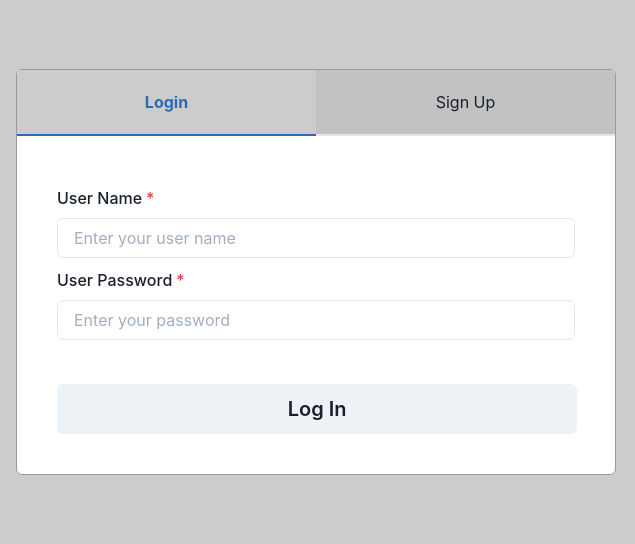
Test: Login UI Tests › Displays error for submitting sign up form with invalid password
This screenshot has width=635, height=544.
Click the tab "Sign Up" at (466, 103), box [316,70,615,136]
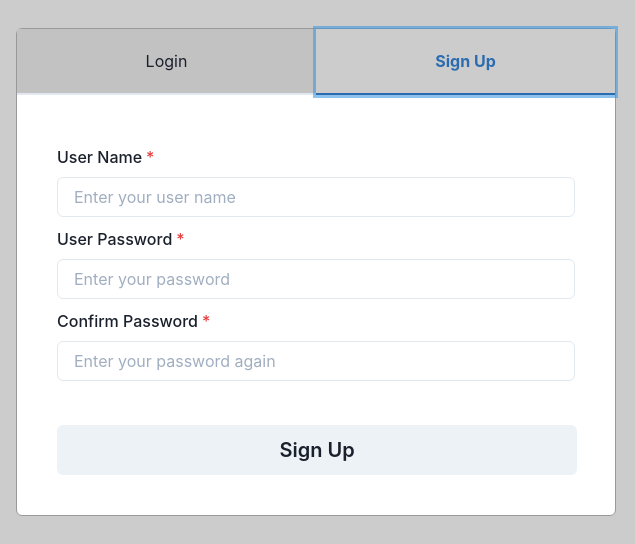
Now the password field with placeholder "Enter your password again" is shown, box [57,341,575,381]
Type "abcdef" into the field with placeholder "Enter your user name" at (316, 197), box [57,177,575,217]
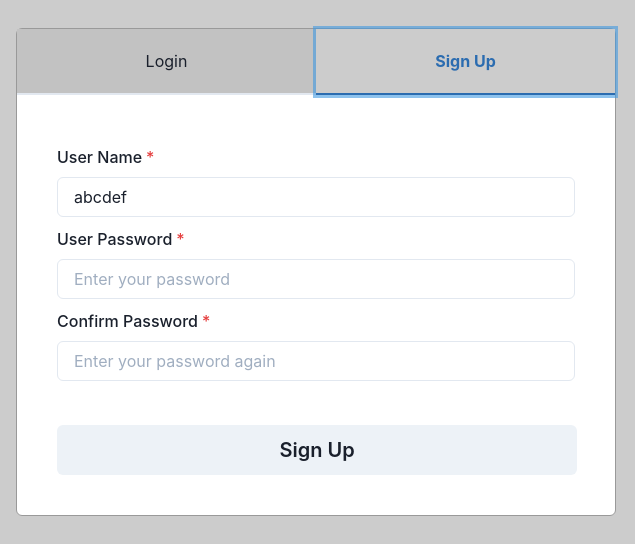
Type "1234567890" into the password field with placeholder "Enter your password" at (316, 279), box [57,259,575,299]
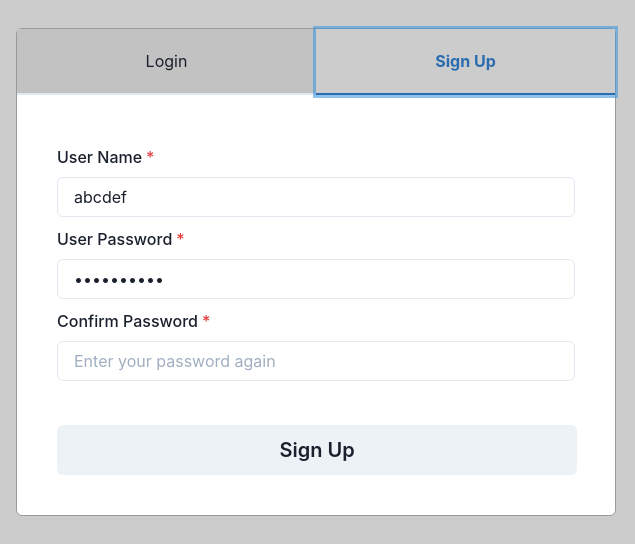
Type "123456789" into the password field with placeholder "Enter your password again" at (316, 361), box [57,341,575,381]
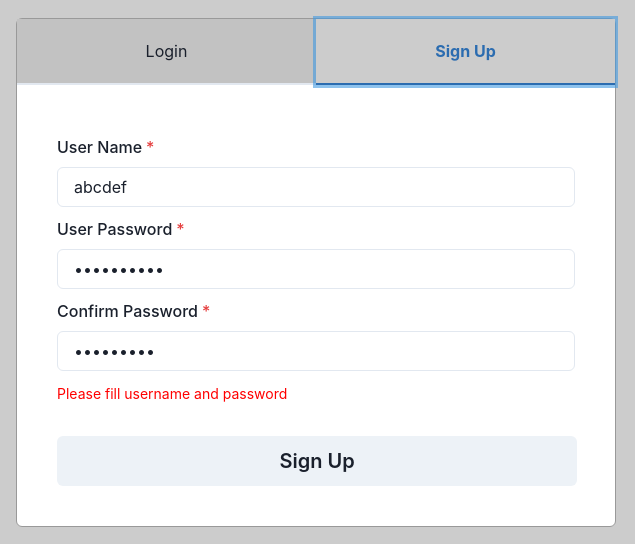
Click the button with test id "submitButton" at (317, 460), box [57,436,577,486]
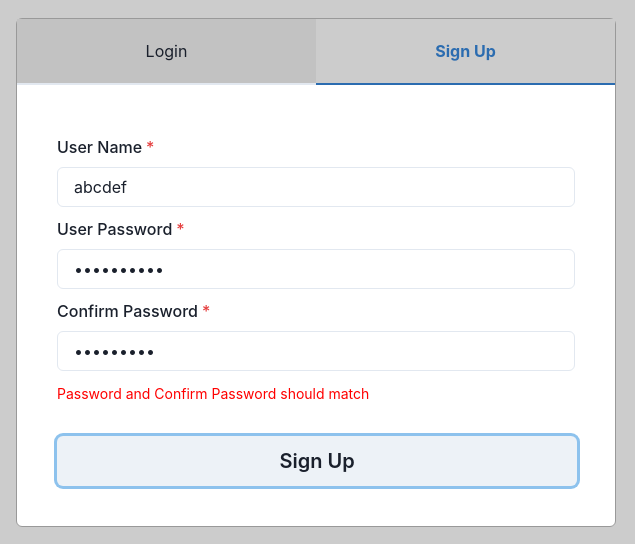
Now the text with test id "error" reads "Password and Confirm Password should match", box [57,384,369,402]
